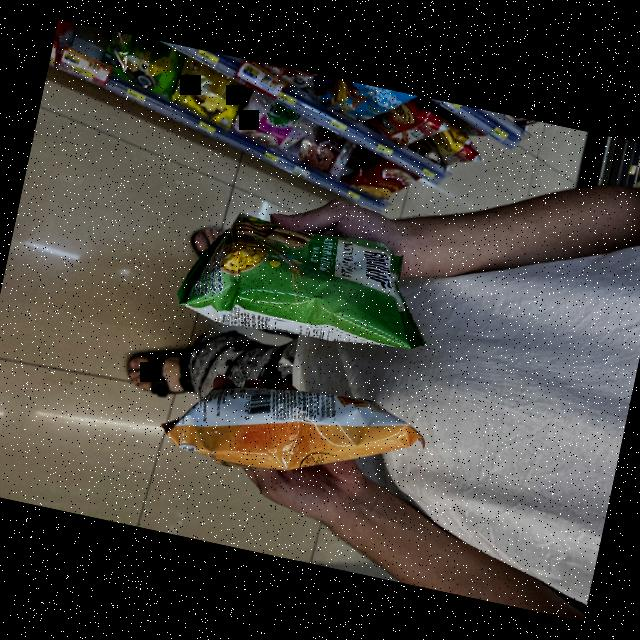snack_bag: (166, 194, 442, 376), (146, 350, 438, 517)
